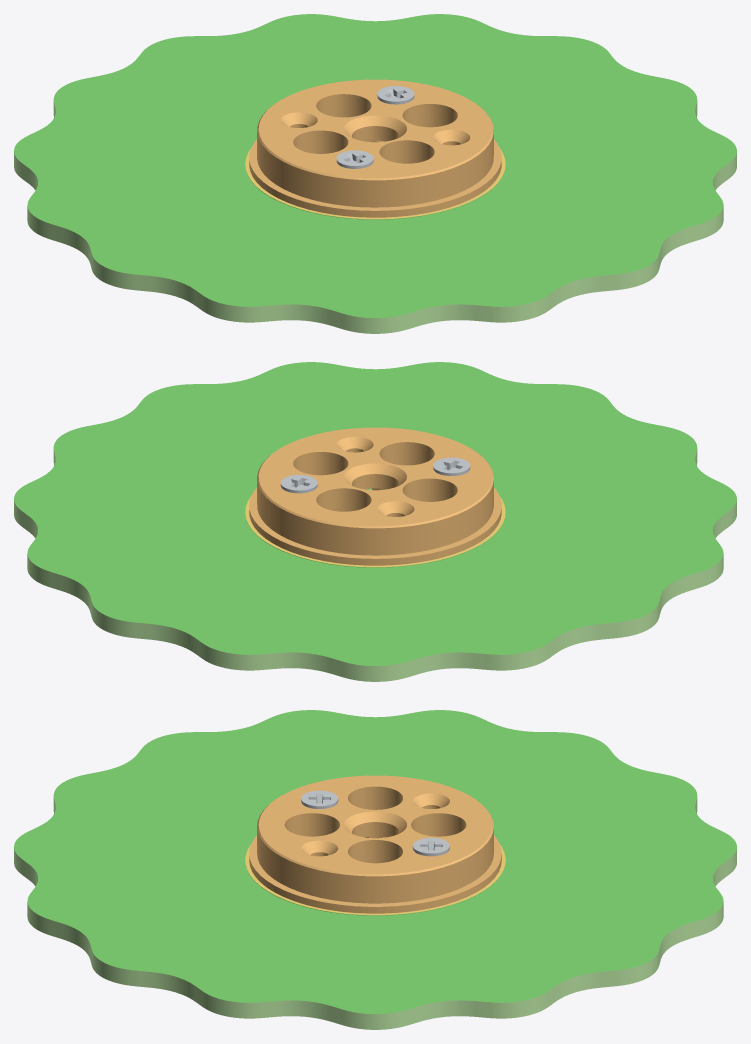
File: cycloidalDisc.gltf
3 renders of one model, top to bottom at view 1: azimuth 30°, elevation 25°; view 2: azimuth 150°, elevation 25°; view 3: azimuth 270°, elevation 25°, orthographic.
Parts seen in each view (by area): view 1: cycloidalDisc, discHub, PH Countersunk flat head screw M2.5x0.45 x 8 (×2); view 2: cycloidalDisc, discHub, PH Countersunk flat head screw M2.5x0.45 x 8 (×2); view 3: cycloidalDisc, discHub, PH Countersunk flat head screw M2.5x0.45 x 8 (×2).
Part boxes in pixels (x1,y1,x2,y2): cycloidalDisc: (14,14,736,333); discHub: (249,79,501,217); PH Countersunk flat head screw M2.5x0.45 x 8 (×2): (336,86,414,168); cycloidalDisc: (14,362,736,681); discHub: (249,427,501,565); PH Countersunk flat head screw M2.5x0.45 x 8 (×2): (280,457,470,493); cycloidalDisc: (14,710,736,1029); discHub: (249,775,501,913); PH Countersunk flat head screw M2.5x0.45 x 8 (×2): (301,790,449,856).
Size of the model in its own units: 0.0911 by 0.013 by 0.0916.
